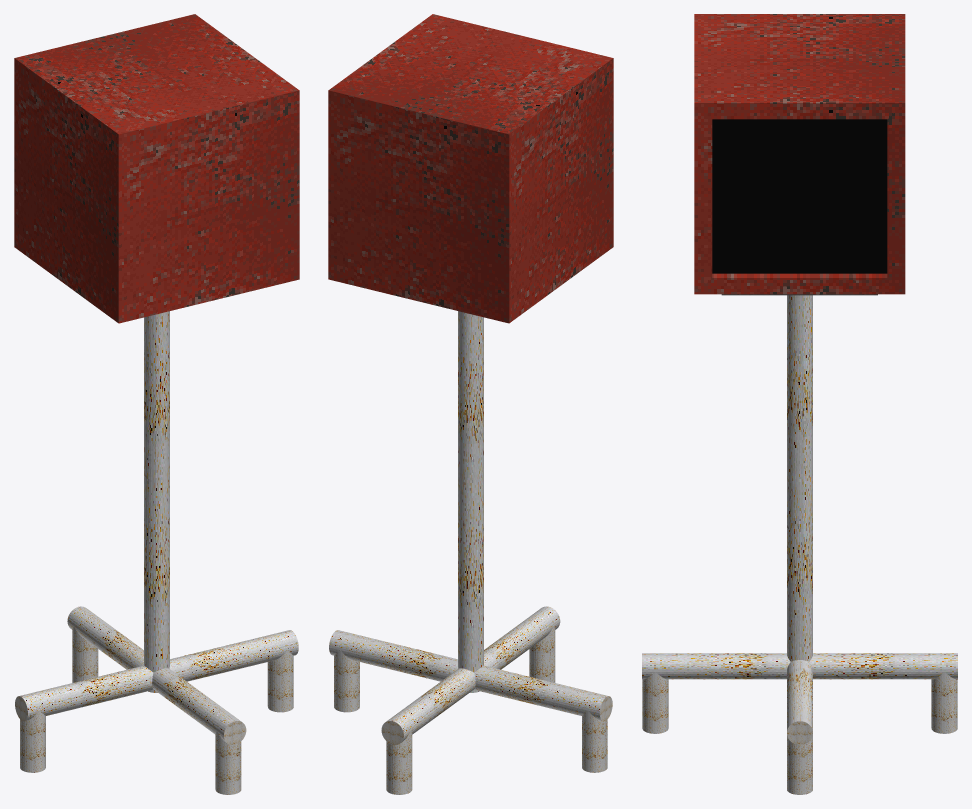
File: monitor.glb
The picture shows the model from 3 angles, left to right: view 1: azimuth 30°, elevation 25°; view 2: azimuth 150°, elevation 25°; view 3: azimuth 270°, elevation 25°; orthographic projection.
Visible parts, largest first — view 1: Куб, Цилиндр; view 2: Куб, Цилиндр; view 3: Куб, Цилиндр.
Boxes of the visible parts, bbox=[...] form: Куб: bbox=[14, 14, 299, 323]; Цилиндр: bbox=[15, 311, 298, 794]; Куб: bbox=[328, 14, 613, 323]; Цилиндр: bbox=[329, 311, 612, 794]; Куб: bbox=[694, 14, 905, 294]; Цилиндр: bbox=[642, 295, 957, 794].
Bounding box in the file's own units: 24.04 × 56.25 × 24.04.
4 materials, 3 textured.
